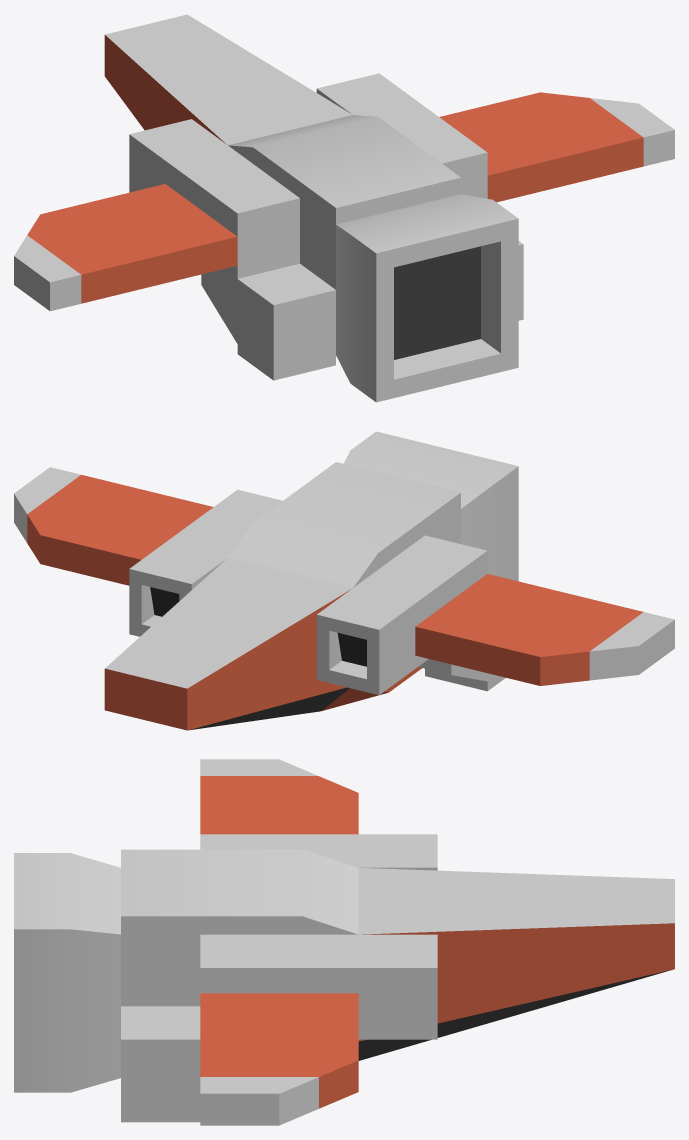
File: spacecraft1.obj
3 renders of one model, top to bottom at view 1: azimuth 30°, elevation 25°; view 2: azimuth 150°, elevation 25°; view 3: azimuth 270°, elevation 25°, orthographic. The views are drawn at different scales.
Parts seen in each view (by area): view 1: spaceCraft1; view 2: spaceCraft1; view 3: spaceCraft1.
Boxes of the visible parts, x1,y1,x2,y2 form: spaceCraft1: [14, 14, 674, 402]; spaceCraft1: [14, 431, 674, 730]; spaceCraft1: [14, 759, 674, 1125].
Bounding box in the file's own units: 19.75 × 4.75 × 16.5.
